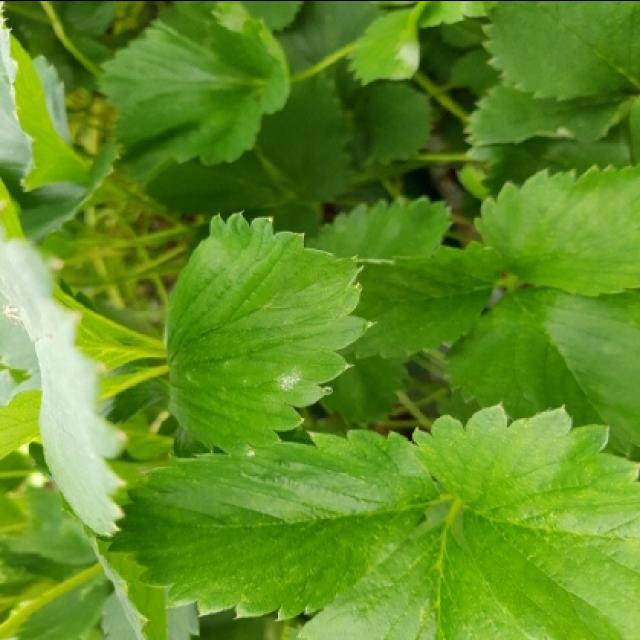Powdery Mildew Leaf: (165, 209, 378, 456), (344, 2, 429, 84)
